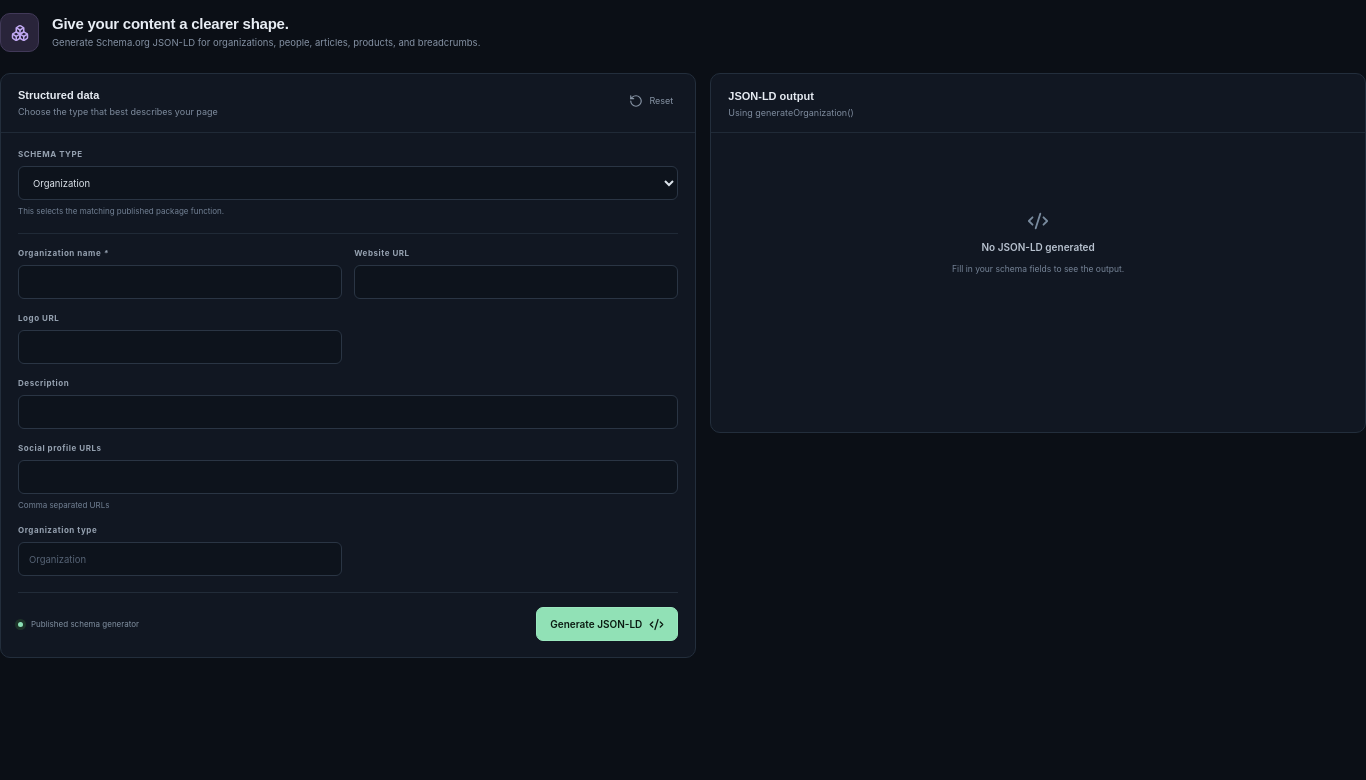
Test: SEO generator interactions › switches schema types and displays JSON-LD generated by the API
The image size is (1366, 780).
Select "Article" in the dropdown showing "Organization". click: (348, 183)
box: [18, 166, 678, 200]
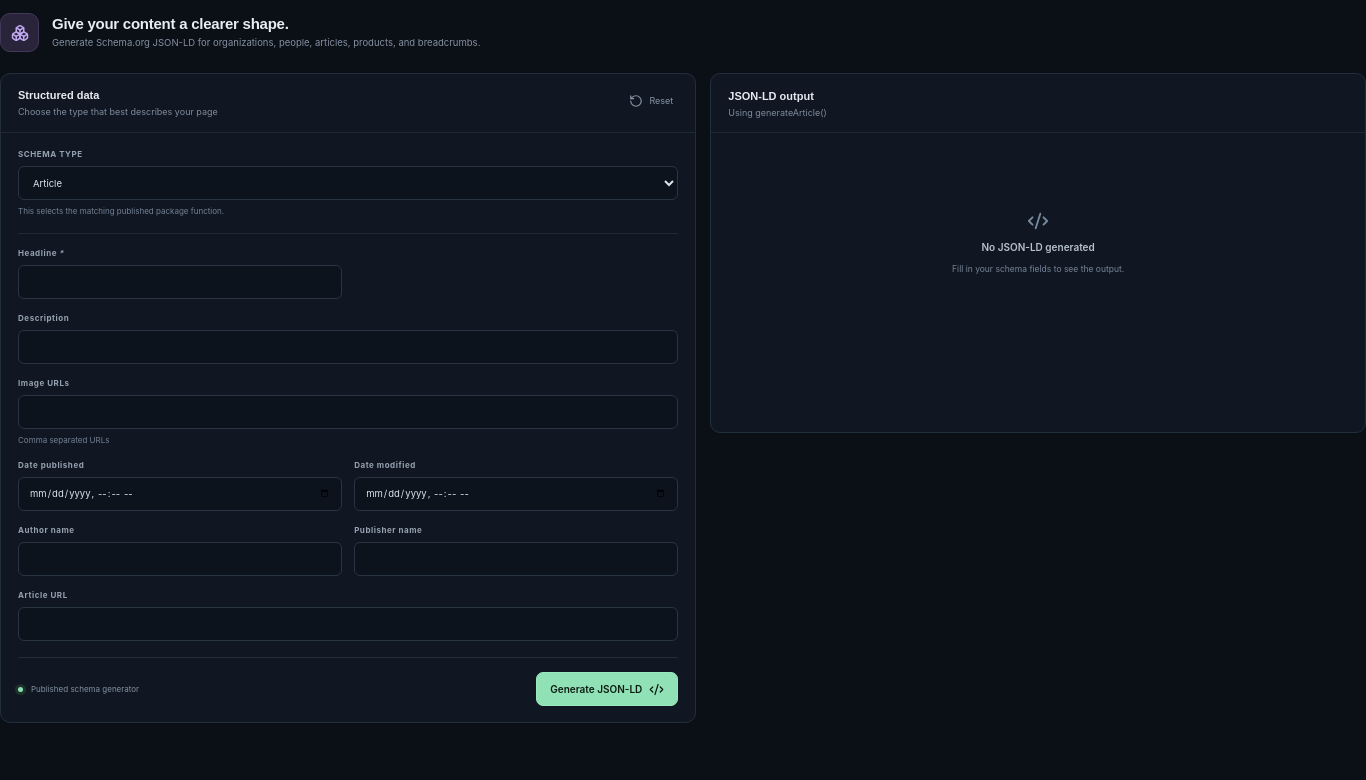
Type "An honest article" into the field labelled "Headline *". click: (180, 282)
box: [18, 265, 342, 299]
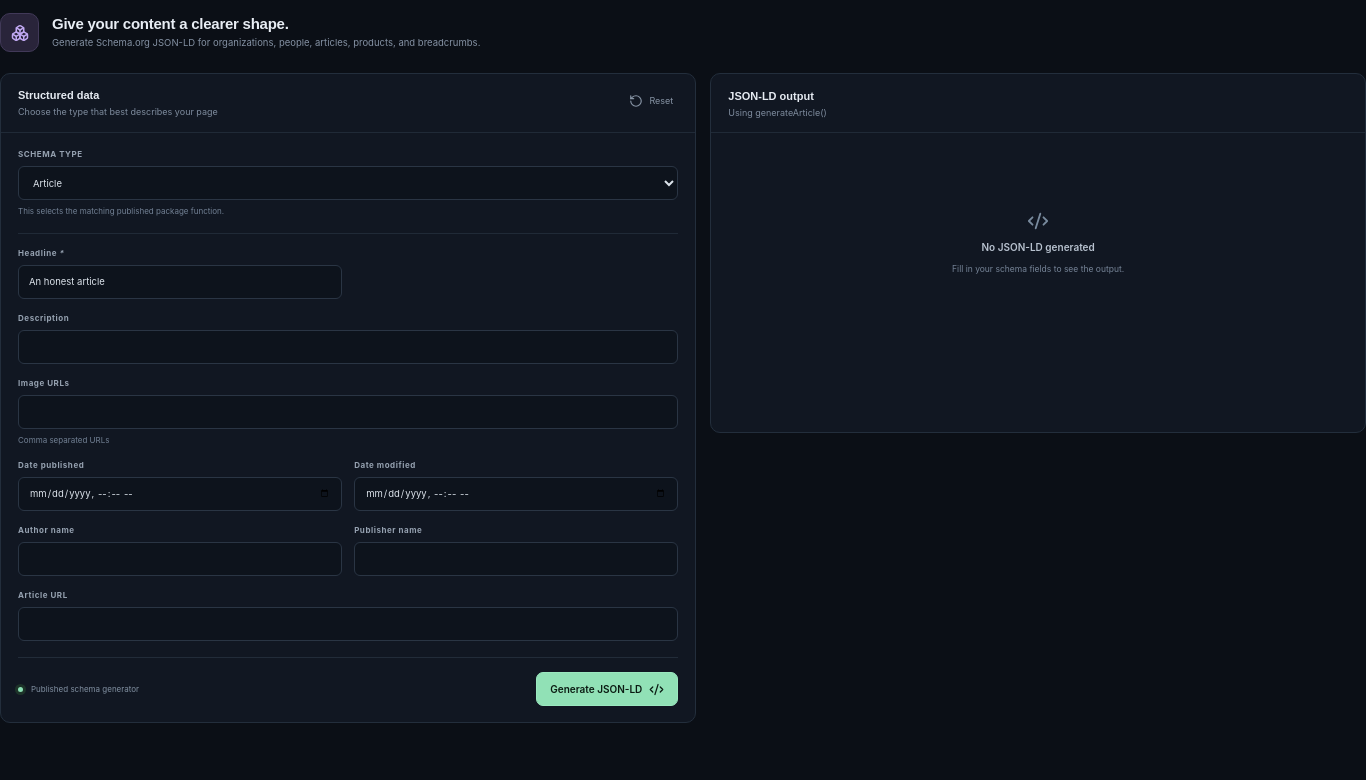
Click the button "Generate JSON-LD". click: (607, 689)
box: [536, 672, 678, 706]
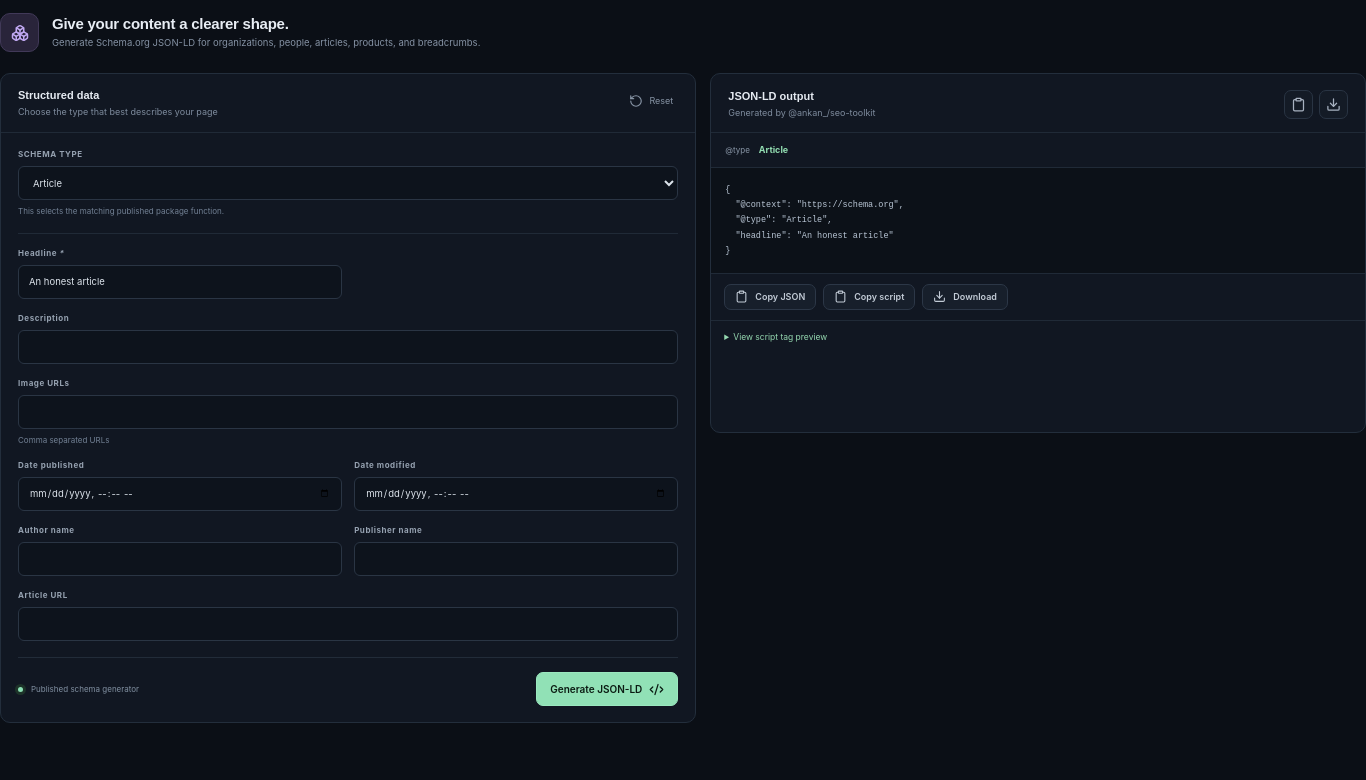
expect the text "\"@type\": \"Article\"" is shown: met, box [725, 184, 904, 256]
